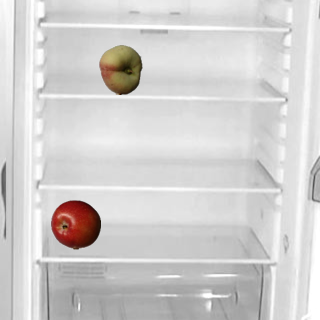Apple Braeburn: (50, 199, 100, 249)
Peach Flat: (95, 44, 145, 94)
